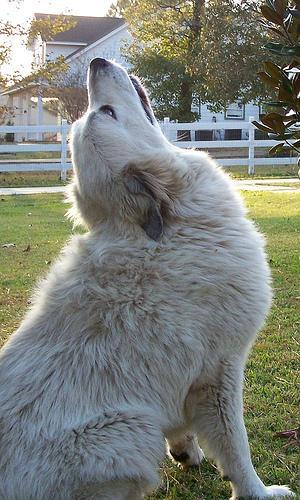Great_Pyrenees: (0, 55, 298, 498)
